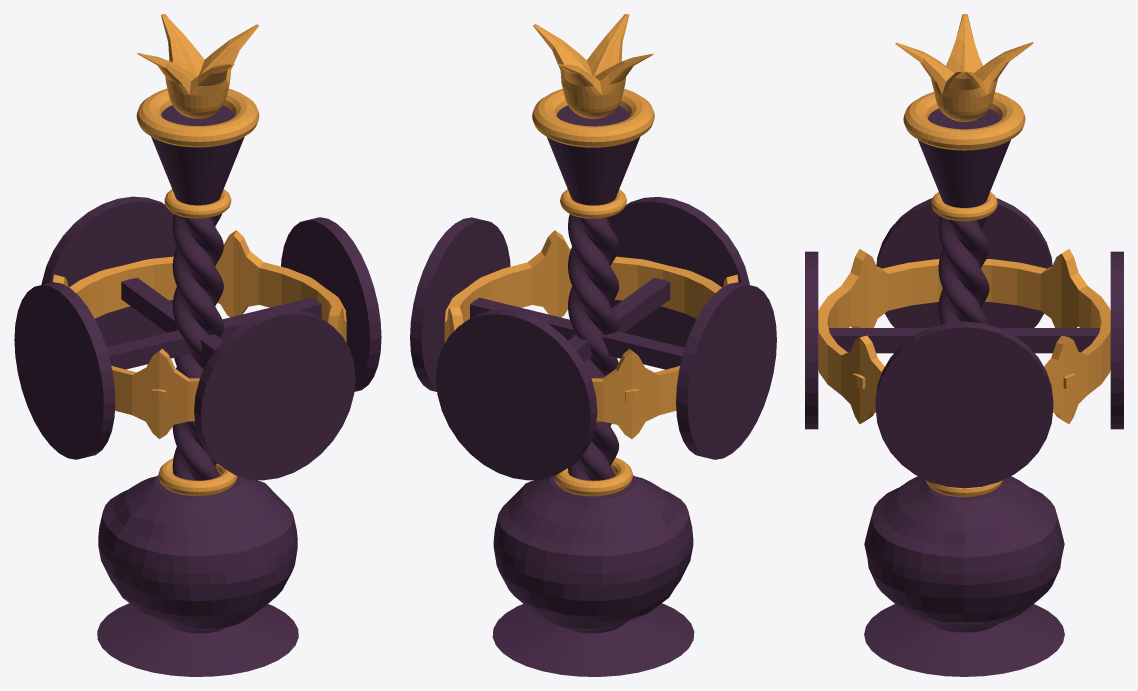
The model's file is CandleHolder_Prot_0.3_0c 1.fbx.
3 renders of one model, left to right at view 1: azimuth 30°, elevation 25°; view 2: azimuth 150°, elevation 25°; view 3: azimuth 270°, elevation 25°, orthographic.
Parts seen in each view (by area): view 1: Plato.009, Sphere.030, Plato.008, Cylinder.027, Base.025, Circle.004, Sphere.031, Campanita.003, Deco3.004, Cross2.009, Cross2.008, Deco.004 (+1 smaller); view 2: Plato.009, Sphere.030, Plato.008, Cylinder.027, Base.025, Circle.004, Sphere.031, Campanita.003, Deco3.004, Cross2.009, Cross2.008, Deco.004 (+1 smaller); view 3: Plato.008, Sphere.030, Cylinder.027, Base.025, Sphere.031, Plato.009, Circle.004, Campanita.003, Deco3.004, Cross2.008, Deco2.004, Deco.004.
Boxes of the visible parts, x1,y1,x2,y2 form: Plato.009: (41,196,355,480); Sphere.030: (98,474,297,633); Plato.008: (14,217,381,459); Cylinder.027: (53,230,346,438); Base.025: (97,603,298,676); Circle.004: (172,214,223,480); Sphere.031: (137,14,258,118); Campanita.003: (151,105,244,205); Deco3.004: (136,88,259,147); Cross2.009: (106,297,321,369); Cross2.008: (121,277,223,361); Deco.004: (158,458,237,496); Plato.009: (436,197,749,480); Sphere.030: (493,474,693,633); Plato.008: (410,217,776,459); Cylinder.027: (444,230,738,438); Base.025: (492,603,694,676); Circle.004: (568,214,619,480); Sphere.031: (533,14,653,118); Campanita.003: (547,106,639,205); Deco3.004: (532,89,654,147); Cross2.009: (470,297,684,369); Cross2.008: (568,278,670,361); Deco.004: (554,457,632,496); Plato.008: (875,198,1053,488); Sphere.030: (864,476,1064,632); Cylinder.027: (818,249,1110,423); Base.025: (864,604,1064,676); Sphere.031: (895,14,1033,121); Plato.009: (805,251,1123,429); Circle.004: (938,216,989,324); Campanita.003: (918,108,1010,207); Deco3.004: (903,92,1025,150); Cross2.008: (828,328,1100,353); Deco2.004: (931,192,997,221); Deco.004: (926,480,1002,497).
Bounding box in the file's own units: 199 × 407 × 199.
